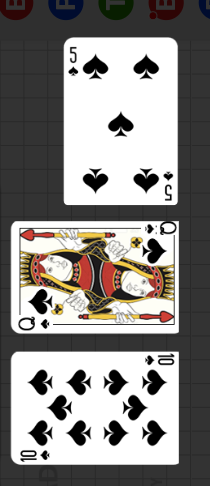10S: (19, 447, 53, 462)
5S: (67, 45, 80, 79), (162, 169, 175, 202)
